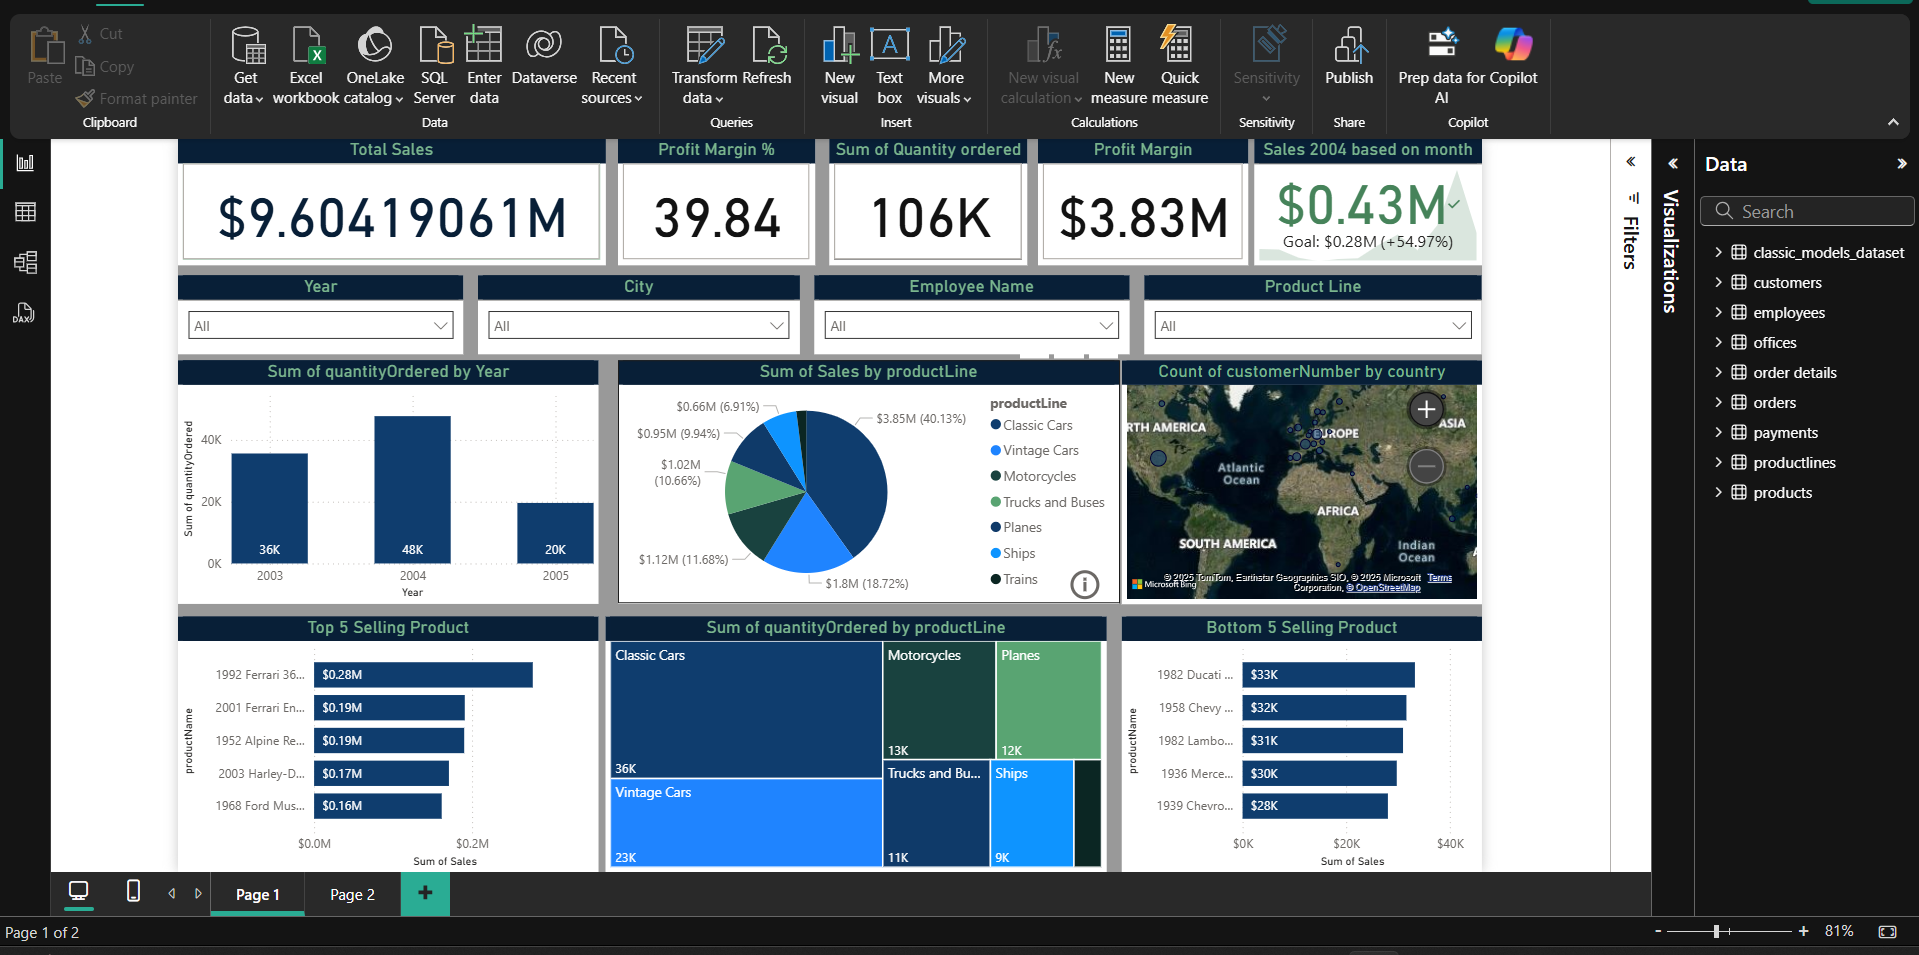

Layout of this report page (visuals, bound fields, positions):
{"tool":"powerbi","page":{"name":"Page 1","canvas":[1280,720],"ordinal":0},"visuals":[{"type":"pieChart","fields":{"Y":["Sum(order details.Sales)"],"Category":["products.productLine"]},"box":[431.6,217.1,492.1,239.5],"z":0},{"type":"barChart","title":"Top 5 Selling Product","fields":{"Y":["Sum(order details.Sales)"],"Category":["products.productName"]},"box":[0,468.4,413.2,251.3],"z":1000},{"type":"slicer","title":"Year","fields":{"Values":["orders.Year"]},"box":[0,134.2,280.3,77.6],"z":2000},{"type":"cardVisual","title":"Sum of Quantity ordered","fields":{"Data":["Sum(order details.quantityOrdered)"]},"box":[639.5,0,194.7,123.7],"z":3000},{"type":"kpi","title":"Sales 2004 based on month","fields":{"Goal":["orders.sales_2003"],"TrendLine":["orders.Month Name"],"Indicator":["orders.sales_2004"]},"box":[1056.6,0,223.7,123.7],"z":4000},{"type":"map","fields":{"Category":["customers.country"],"Size":["CountNonNull(customers.customerNumber)"]},"box":[926.3,217.1,353.9,239.5],"z":5000},{"type":"treemap","fields":{"Group":["productlines.productLine"],"Values":["Sum(order details.quantityOrdered)"]},"box":[419.7,468.4,492.1,251.3],"z":6000},{"type":"clusteredColumnChart","fields":{"Y":["Sum(order details.quantityOrdered)"],"Category":["orders.Year"]},"box":[0,217.1,413.2,239.5],"z":7000},{"type":"cardVisual","title":"Profit Margin","fields":{"Data":["order details.Total_profit"]},"box":[844.7,0,206.6,123.7],"z":8000},{"type":"cardVisual","title":"Profit Margin %","fields":{"Data":["order details.Profit_Margin%"]},"box":[431.6,0,193.4,123.7],"z":9000},{"type":"cardVisual","title":"Total Sales","fields":{"Data":["Sum(order details.Sales)"]},"box":[0,0,419.7,123.7],"z":10000},{"type":"slicer","title":"City","fields":{"Values":["offices.city"]},"box":[294.7,134.2,315.8,77.6],"z":11000},{"type":"slicer","title":"Employee Name","fields":{"Values":["employees.FullName"]},"box":[625,134.2,309.2,77.6],"z":12000},{"type":"slicer","title":"Product Line","fields":{"Values":["productlines.productLine"]},"box":[948.7,134.2,331.6,77.6],"z":13000},{"type":"barChart","title":"Bottom 5 Selling Product","fields":{"Y":["Sum(order details.Sales)"],"Category":["products.productName"]},"box":[926.3,468.4,353.9,251.3],"z":14000},{"type":"actionButton","box":[871.1,418.4,40.8,38.2],"z":15000}]}

Visuals, with their boxes on the page's 1280x720 design canvas (x1, y1, x2, y2). These are canvas units, not pixel positions in the 1919x955 screenshot, which may show the page scaled, cropped or inside an application window:
pieChart - Sum(order details.Sales) x products.productLine: bbox(432, 217, 924, 457)
"Top 5 Selling Product" barChart: bbox(0, 468, 413, 720)
"Year" slicer: bbox(0, 134, 280, 212)
"Sum of Quantity ordered" cardVisual: bbox(640, 0, 834, 124)
"Sales 2004 based on month" kpi: bbox(1057, 0, 1280, 124)
map - customers.country x CountNonNull(customers.customerNumber): bbox(926, 217, 1280, 457)
treemap - productlines.productLine x Sum(order details.quantityOrdered): bbox(420, 468, 912, 720)
clusteredColumnChart - Sum(order details.quantityOrdered) x orders.Year: bbox(0, 217, 413, 457)
"Profit Margin" cardVisual: bbox(845, 0, 1051, 124)
"Profit Margin %" cardVisual: bbox(432, 0, 625, 124)
"Total Sales" cardVisual: bbox(0, 0, 420, 124)
"City" slicer: bbox(295, 134, 610, 212)
"Employee Name" slicer: bbox(625, 134, 934, 212)
"Product Line" slicer: bbox(949, 134, 1280, 212)
"Bottom 5 Selling Product" barChart: bbox(926, 468, 1280, 720)
actionButton: bbox(871, 418, 912, 457)
